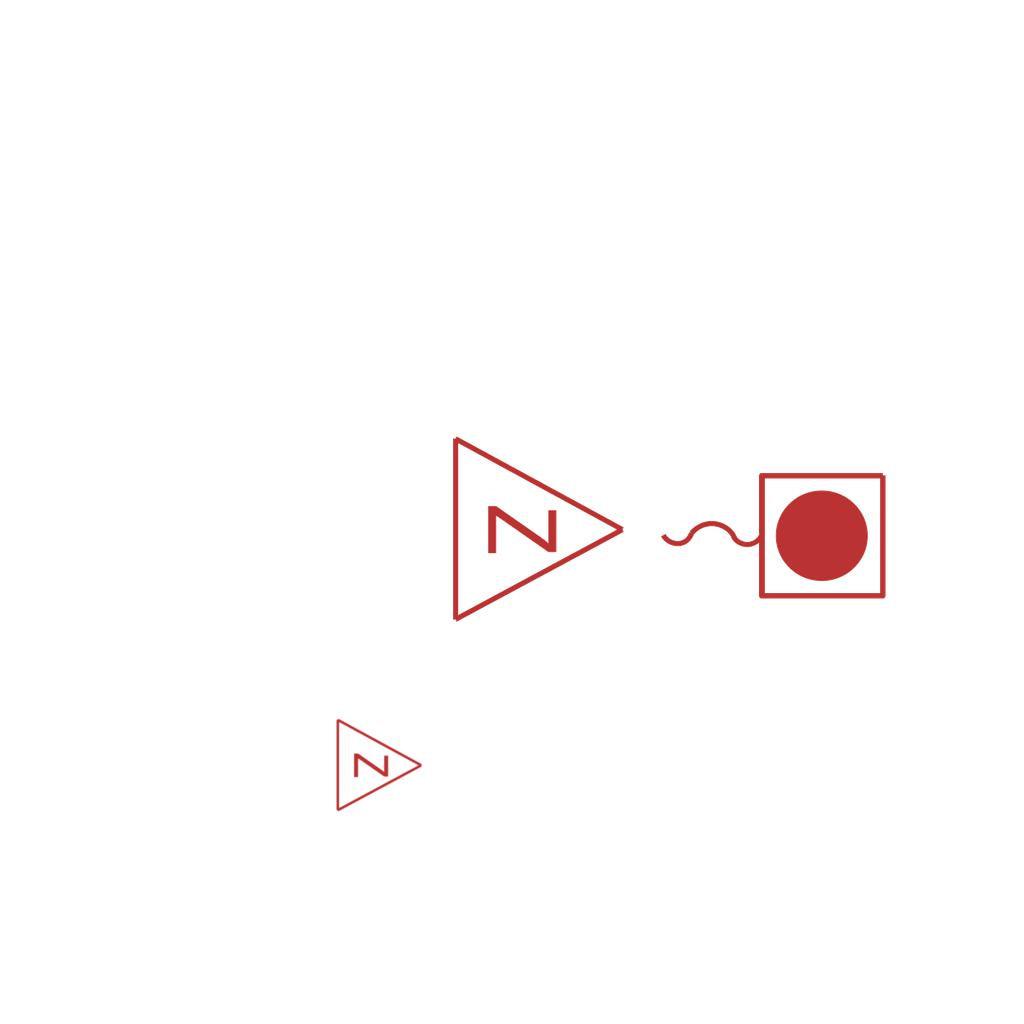Zimmersignalleuchte: (438, 429, 638, 625), (329, 715, 429, 813)
Zugtaster: (650, 462, 894, 606)
